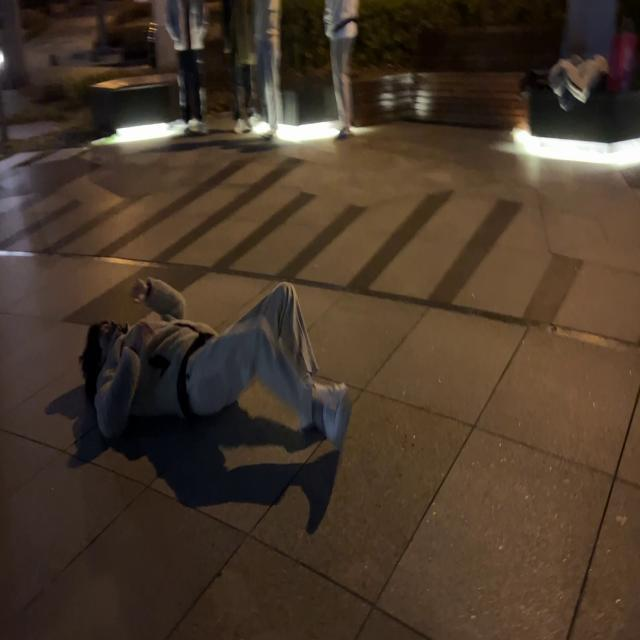Fall: (80, 277, 352, 450)
